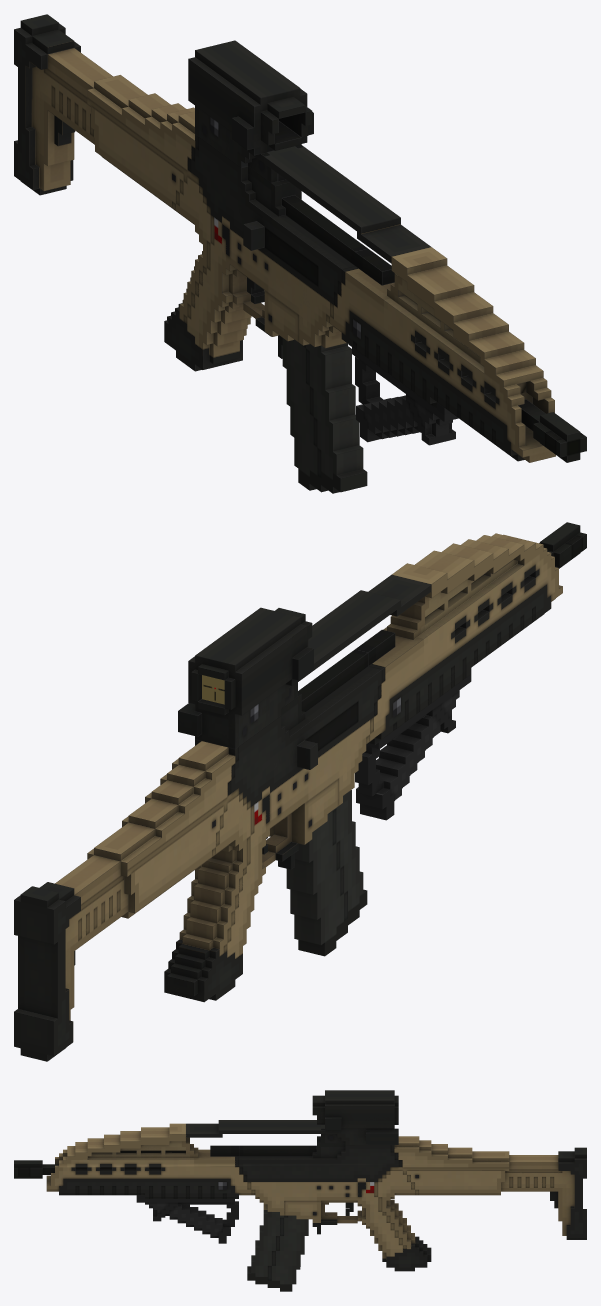
The model's file is RD_HK_XM8_LADY.glb.
The picture shows the model from 3 angles, top to bottom: view 1: azimuth 30°, elevation 25°; view 2: azimuth 150°, elevation 25°; view 3: azimuth 270°, elevation 25°; orthographic projection. The views are drawn at different scales.
Visible parts, largest first — view 1: HK_XM8, HK_XM8_SCOPE, HK_XM8_CLIP, GRIP2, HK_XM8_BOLT, HK_XM8_BOLT_P2; view 2: HK_XM8, HK_XM8_SCOPE, HK_XM8_CLIP, GRIP2, HK_XM8_BOLT, HK_XM8_BOLT_P2; view 3: HK_XM8, HK_XM8_SCOPE, HK_XM8_CLIP, GRIP2, HK_XM8_BOLT, HK_XM8_BOLT_P2.
Part boxes in pixels (<box>): HK_XM8: <box>14,14,586,462</box>; HK_XM8_SCOPE: <box>188,40,313,182</box>; HK_XM8_CLIP: <box>282,338,367,493</box>; GRIP2: <box>352,347,458,445</box>; HK_XM8_BOLT: <box>281,195,367,265</box>; HK_XM8_BOLT_P2: <box>355,248,394,285</box>; HK_XM8: <box>14,522,586,1061</box>; HK_XM8_SCOPE: <box>178,607,313,748</box>; HK_XM8_CLIP: <box>286,790,367,956</box>; GRIP2: <box>355,668,471,820</box>; HK_XM8_BOLT: <box>298,649,368,711</box>; HK_XM8_BOLT_P2: <box>355,629,395,666</box>; HK_XM8: <box>14,1120,586,1271</box>; HK_XM8_SCOPE: <box>312,1090,398,1144</box>; HK_XM8_CLIP: <box>247,1210,308,1291</box>; GRIP2: <box>136,1195,238,1243</box>; HK_XM8_BOLT: <box>239,1145,316,1156</box>; HK_XM8_BOLT_P2: <box>210,1145,238,1156</box>.
Size of the model in its own units: 0.0984 by 0.5118 by 1.38.
7 materials, 7 textured.
